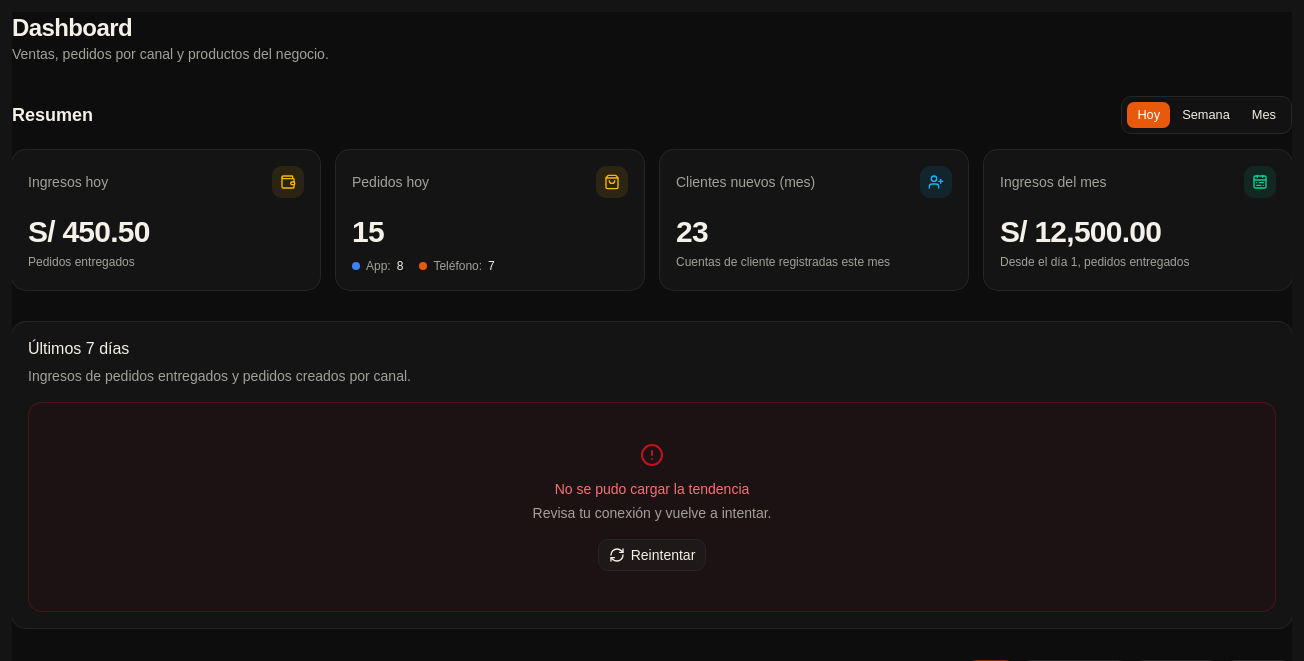
Test: DashboardPage — tendencia de 7 días › error en la tendencia: ErrorState propio con reintentar, sin tumbar las métricas
Check: the text "No se pudo cargar la tendencia" is shown, box [555,481,749,497]
Check: the text "Ingresos hoy" is shown, box [28,172,108,192]
Click the button "Reintentar": [652, 555] box [598,539,706,571]
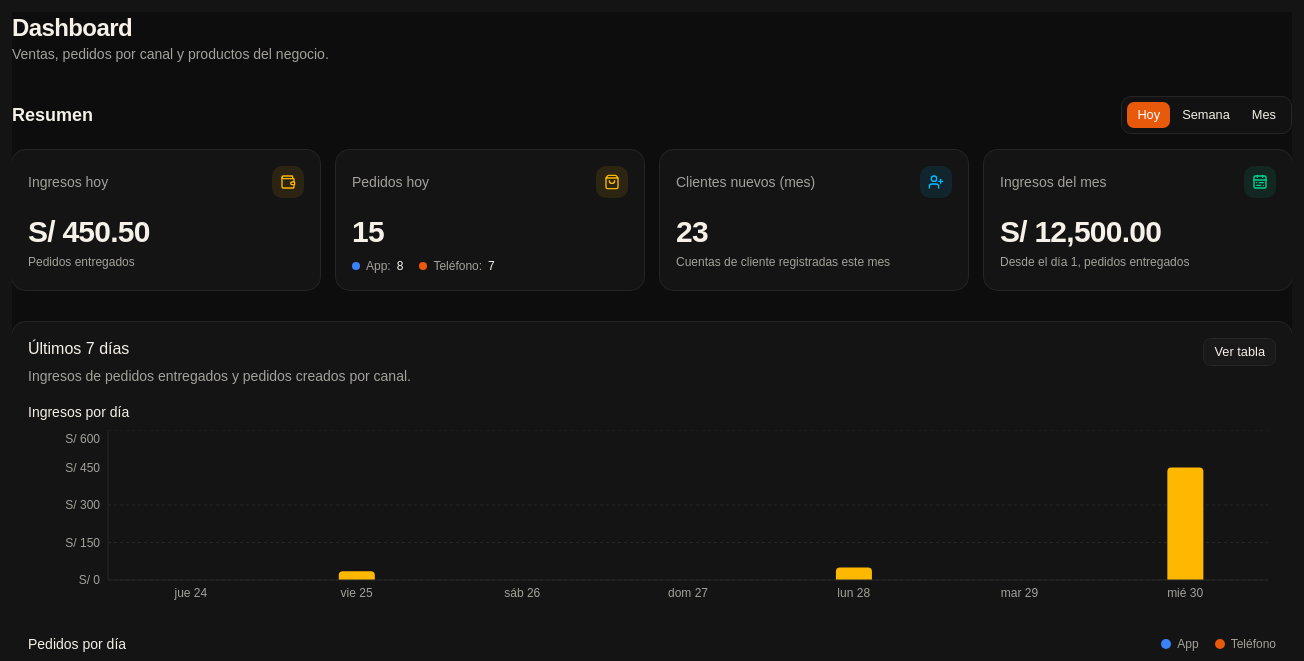
Check: the text "Ingresos por día" is shown, box [28,404,129,420]
